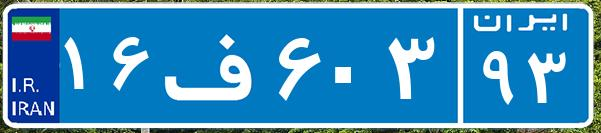0: (330, 28, 385, 110)
1: (57, 26, 110, 107)
3: (385, 28, 445, 110), (525, 38, 570, 115)
6: (273, 28, 330, 110), (110, 28, 158, 105)
9: (475, 38, 525, 113)
ف: (158, 15, 273, 115)
